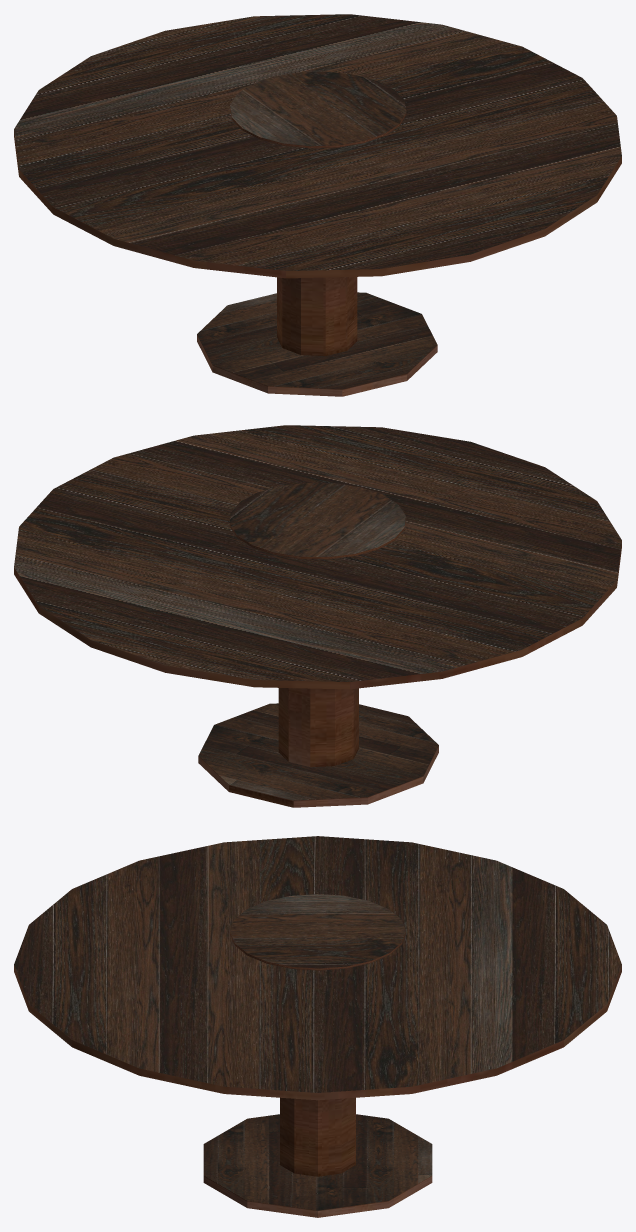
The model's file is Dark Round Table.fbx.
3 views of the same model, one above another, from view 1: azimuth 30°, elevation 25°; view 2: azimuth 150°, elevation 25°; view 3: azimuth 270°, elevation 25° (orthographic).
Visible parts, largest first — view 1: pasted__pCylinder2, pCylinder1, pasted__pasted__pCylinder1; view 2: pasted__pCylinder2, pCylinder1, pasted__pasted__pCylinder1; view 3: pasted__pCylinder2, pCylinder1, pasted__pasted__pCylinder1.
Boxes of the visible parts, x1,y1,x2,y2 form: pasted__pCylinder2: [14, 14, 621, 278]; pCylinder1: [197, 277, 437, 396]; pasted__pasted__pCylinder1: [230, 71, 406, 148]; pasted__pCylinder2: [14, 425, 621, 689]; pCylinder1: [198, 688, 438, 807]; pasted__pasted__pCylinder1: [229, 482, 405, 559]; pasted__pCylinder2: [14, 836, 621, 1100]; pCylinder1: [203, 1097, 432, 1217]; pasted__pasted__pCylinder1: [230, 894, 405, 970].
Bounding box in the file's own units: 7.58 × 3.25 × 7.58.
5 materials, 5 textured.
